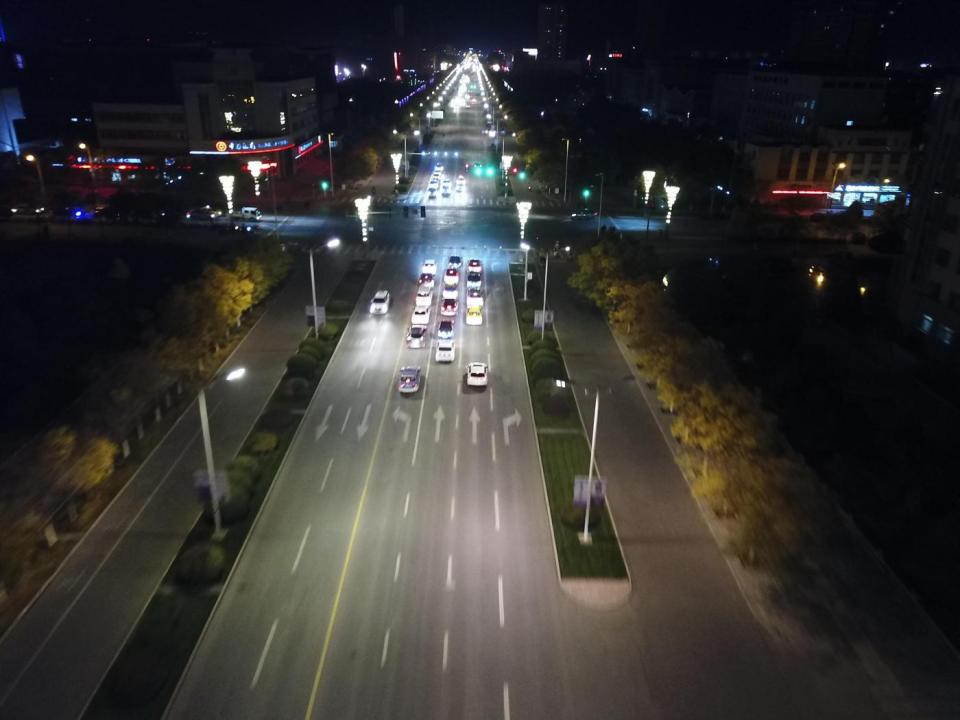car: (639, 187, 669, 213), (398, 365, 421, 391), (467, 362, 488, 387), (370, 289, 390, 314), (406, 324, 426, 348), (436, 338, 454, 363), (411, 304, 430, 324), (466, 304, 482, 326), (436, 319, 454, 338), (708, 253, 733, 266), (158, 209, 190, 219), (187, 208, 213, 220), (441, 298, 458, 316), (466, 288, 483, 306), (570, 209, 596, 220), (14, 204, 42, 214), (422, 258, 438, 274), (466, 273, 482, 289), (418, 273, 436, 287), (200, 205, 222, 216), (467, 259, 482, 274), (444, 270, 460, 284), (442, 284, 458, 298), (448, 256, 463, 269), (442, 185, 450, 197), (434, 162, 444, 171), (456, 183, 465, 193), (455, 175, 465, 184), (442, 178, 451, 186), (474, 162, 483, 170), (429, 188, 436, 197), (433, 172, 443, 178), (430, 181, 437, 189), (430, 177, 438, 184), (471, 99, 477, 104), (488, 95, 494, 100), (466, 93, 470, 100), (470, 84, 476, 88), (466, 104, 471, 108), (468, 89, 472, 93)
truck: (226, 206, 262, 221)
van: (415, 286, 433, 304)
